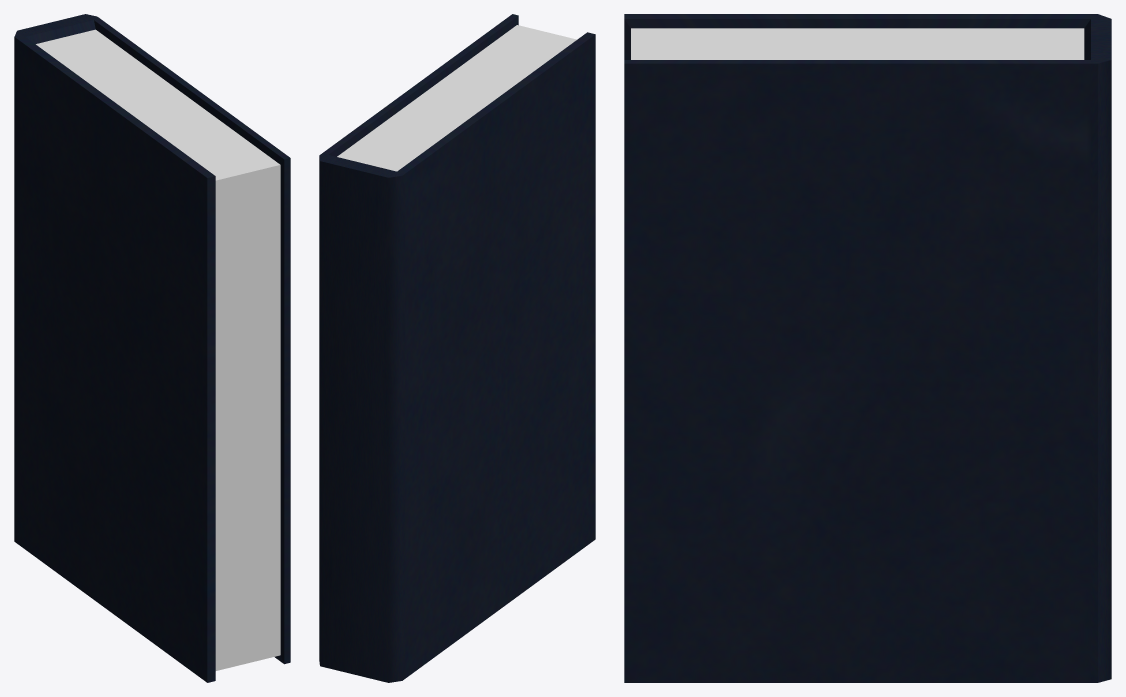
File: LibroAzulOscuroGrande.fbx
3 views of the same model, side by side, from view 1: azimuth 30°, elevation 25°; view 2: azimuth 150°, elevation 25°; view 3: azimuth 270°, elevation 25° (orthographic). The views are drawn at different scales.
Parts seen in each view (by area): view 1: pCube8; view 2: pCube8; view 3: pCube8.
Part boxes in pixels (x1,y1,x2,y2): pCube8: [14, 14, 290, 682]; pCube8: [319, 14, 595, 682]; pCube8: [624, 14, 1111, 682].
Bounding box in the file's own units: 0.1779 × 1.03 × 0.7372.
Materials: 2 (1 with a texture image).
